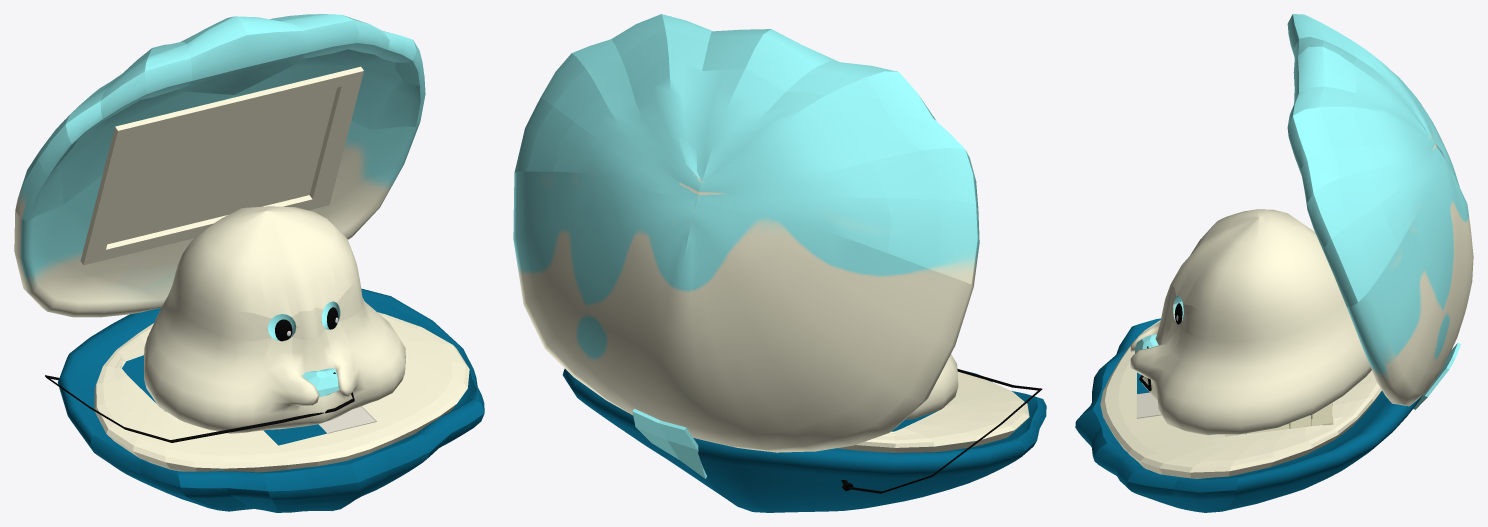
File: 阿古屋貝.glb
3 views of the same model, side by side, from view 1: azimuth 30°, elevation 25°; view 2: azimuth 150°, elevation 25°; view 3: azimuth 270°, elevation 25° (orthographic). The views are drawn at different scales.
Parts seen in each view (by area): view 1: 上のかい, 本体, 画面, 下のかい, 下の中身, コード.001, タッチパッド, マウス; view 2: 上のかい, 下のかい, 下の中身, かいのつなぎめ, 本体, コード.001; view 3: 上のかい, 本体, 下のかい, 下の中身, キーボード, タッチパッド, かいのつなぎめ.
Boxes of the visible parts, left/top/right/bottom form: 上のかい: left=14, top=14, right=425, bottom=317; 本体: left=144, top=206, right=405, bottom=433; 画面: left=80, top=66, right=363, bottom=265; 下のかい: left=57, top=288, right=484, bottom=512; 下の中身: left=94, top=312, right=469, bottom=472; コード.001: left=45, top=375, right=354, bottom=442; タッチパッド: left=319, top=406, right=376, bottom=433; マウス: left=302, top=368, right=339, bottom=397; 上のかい: left=513, top=14, right=979, bottom=452; 下のかい: left=562, top=368, right=1046, bottom=512; 下の中身: left=837, top=371, right=1029, bottom=452; かいのつなぎめ: left=632, top=409, right=707, bottom=478; 本体: left=905, top=354, right=958, bottom=419; コード.001: left=841, top=368, right=1042, bottom=493; 上のかい: left=1287, top=14, right=1473, bottom=406; 本体: left=1130, top=209, right=1371, bottom=435; 下のかい: left=1075, top=318, right=1422, bottom=512; 下の中身: left=1100, top=320, right=1381, bottom=478; キーボード: left=1225, top=402, right=1333, bottom=436; タッチパッド: left=1136, top=392, right=1161, bottom=418; かいのつなぎめ: left=1413, top=343, right=1460, bottom=409.
Size of the model in its own units: 3.85 by 4.02 by 3.3.
Materials: 12 (7 with a texture image).
